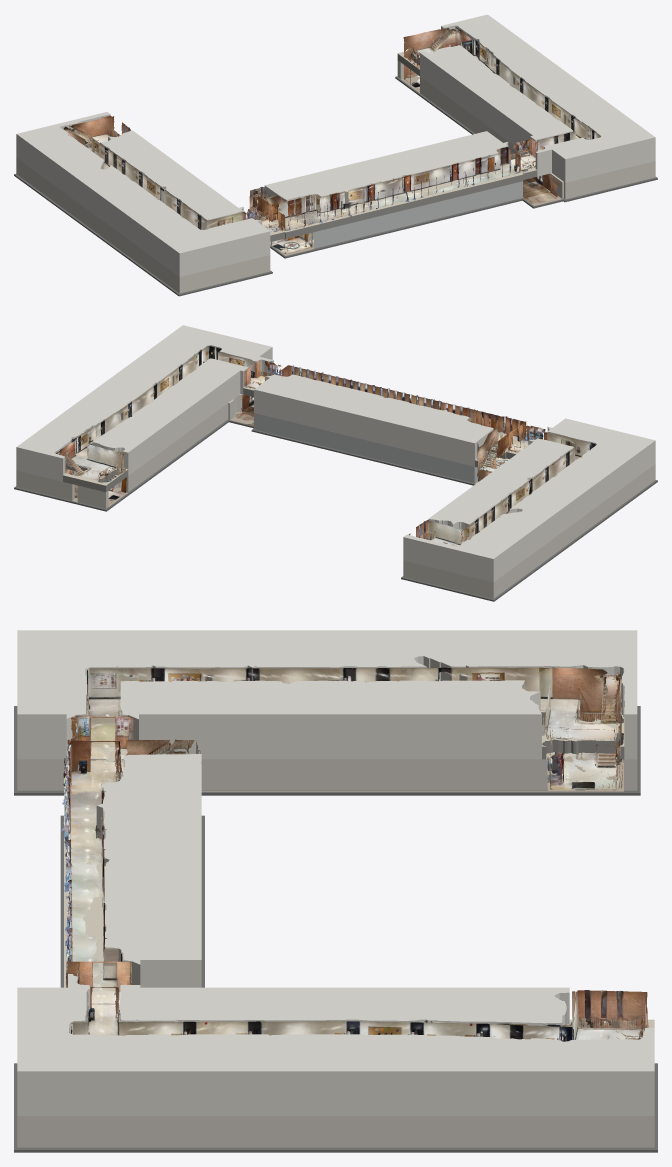
Rendered from web.glb.
3 views of the same model, one above another, from view 1: azimuth 30°, elevation 25°; view 2: azimuth 150°, elevation 25°; view 3: azimuth 270°, elevation 25° (orthographic). The views are drawn at different scales.
Visible parts, largest first — view 1: F2_Rooms_solid, F1_Rooms_solid, F2_Middle_hallway, F1_Middle_blocked, F1_Base, F2_Floor_slab, F2_Right_hallway, F2_Left_hallway, F2_Middle_junction, F2_Stairs_opposite, F2_Floor_fill, F2_Stairs_northwest (+3 smaller); view 2: F2_Rooms_solid, F1_Rooms_solid, F1_Middle_blocked, F2_Middle_hallway, F2_Left_hallway, F1_Base, F2_Right_hallway, F2_Stairs_opposite, F2_Middle_junction, F2_Stairs_northwest, F2_Floor_slab, F2_Stairs_middle; view 3: F2_Rooms_solid, F1_Rooms_solid, F1_Base, F2_Middle_hallway, F2_Left_hallway, F2_Right_hallway, F2_Stairs_northwest, F2_Stairs_opposite, F2_Middle_junction, F1_Stairs_northwest, F2_Floor_fill, F2_Floor_slab (+2 smaller).
Part boxes in pixels (<box>): F2_Rooms_solid: <box>16,14,655,276</box>; F1_Rooms_solid: <box>16,60,655,293</box>; F2_Middle_hallway: <box>286,121,599,224</box>; F1_Middle_blocked: <box>308,181,522,248</box>; F1_Base: <box>14,76,657,296</box>; F2_Floor_slab: <box>85,43,537,241</box>; F2_Right_hallway: <box>460,39,600,149</box>; F2_Left_hallway: <box>90,137,307,230</box>; F2_Middle_junction: <box>224,187,366,231</box>; F2_Stairs_opposite: <box>403,27,494,67</box>; F2_Floor_fill: <box>85,42,536,235</box>; F2_Stairs_northwest: <box>63,115,130,152</box>; F2_Rooms_solid: <box>16,325,655,582</box>; F1_Rooms_solid: <box>16,394,655,598</box>; F1_Middle_blocked: <box>254,413,486,483</box>; F2_Middle_hallway: <box>187,347,499,436</box>; F2_Left_hallway: <box>461,415,596,542</box>; F1_Base: <box>14,411,657,601</box>; F2_Right_hallway: <box>71,346,248,456</box>; F2_Stairs_opposite: <box>56,424,125,482</box>; F2_Middle_junction: <box>442,407,571,458</box>; F2_Stairs_northwest: <box>408,520,479,546</box>; F2_Floor_slab: <box>63,388,515,492</box>; F2_Stairs_middle: <box>465,407,546,466</box>; F2_Rooms_solid: <box>17,630,654,1115</box>; F1_Rooms_solid: <box>17,712,654,1147</box>; F1_Base: <box>14,706,657,1152</box>; F2_Middle_hallway: <box>62,755,132,1036</box>; F2_Left_hallway: <box>64,667,554,794</box>; F2_Right_hallway: <box>71,992,573,1041</box>; F2_Stairs_northwest: <box>538,667,622,758</box>; F2_Stairs_opposite: <box>481,990,648,1040</box>; F2_Middle_junction: <box>61,693,170,851</box>; F1_Stairs_northwest: <box>542,713,622,790</box>; F2_Floor_fill: <box>64,699,654,1038</box>; F2_Floor_slab: <box>120,702,647,1027</box>.
Bounding box in the file's own units: 78.6 × 6.6 × 48.2.
Materials: 18 (11 with a texture image).
